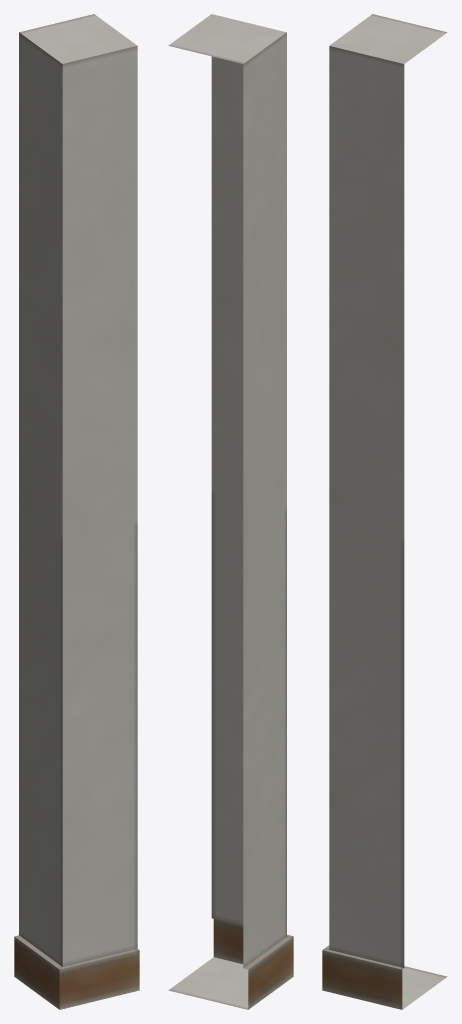
Rendered from SM_Wall_Corner_01.fbx.
3 renders of one model, left to right at view 1: azimuth 30°, elevation 25°; view 2: azimuth 150°, elevation 25°; view 3: azimuth 330°, elevation 25°, orthographic.
Parts seen in each view (by area): view 1: SM_Wall_Corner_01; view 2: SM_Wall_Corner_01; view 3: SM_Wall_Corner_01.
Part boxes in pixels (x1,y1,x2,y2): SM_Wall_Corner_01: (14, 14, 139, 1009); SM_Wall_Corner_01: (168, 14, 293, 1009); SM_Wall_Corner_01: (322, 14, 447, 1009).
Bounding box in the file's own units: 26.61 × 300 × 26.21.
